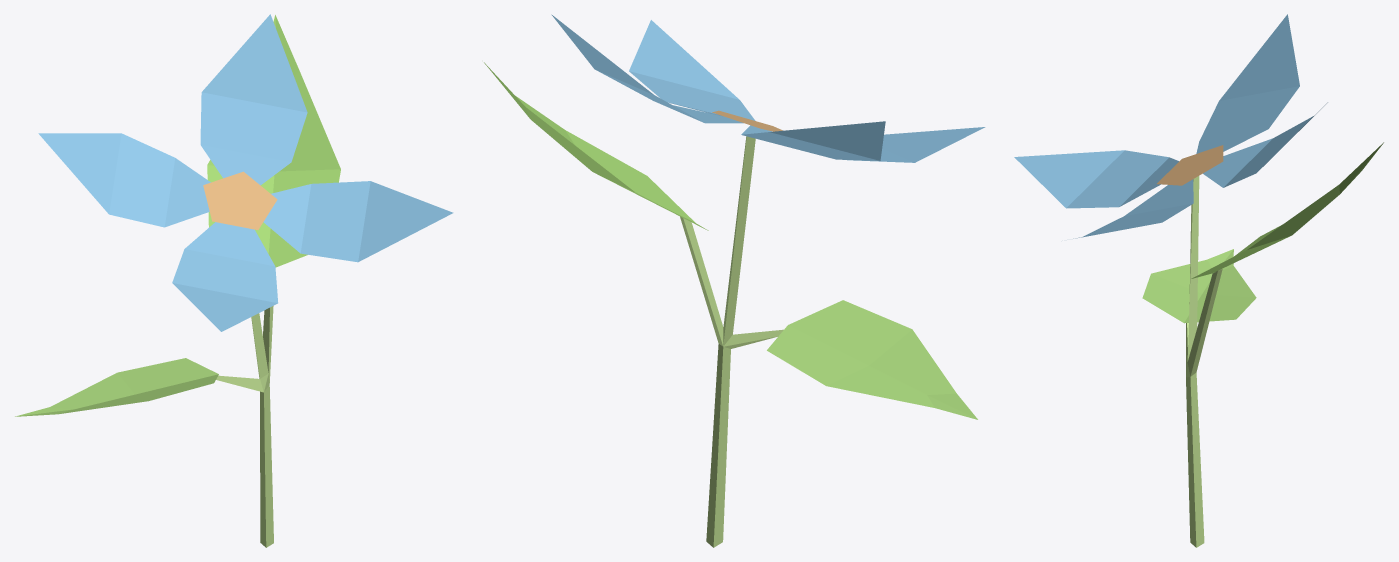
The model's file is Flower_a_TwoS_10.fbx.
The picture shows the model from 3 angles, left to right: view 1: azimuth 30°, elevation 25°; view 2: azimuth 150°, elevation 25°; view 3: azimuth 270°, elevation 25°; orthographic projection. The views are drawn at different scales.
Parts seen in each view (by area): view 1: Flower_a_TwoS_10; view 2: Flower_a_TwoS_10; view 3: Flower_a_TwoS_10.
Boxes of the visible parts, x1,y1,x2,y2 form: Flower_a_TwoS_10: [15, 14, 453, 547]; Flower_a_TwoS_10: [484, 14, 985, 547]; Flower_a_TwoS_10: [1014, 14, 1383, 547].
Bounding box in the file's own units: 0.5635 × 0.7086 × 0.4954.
